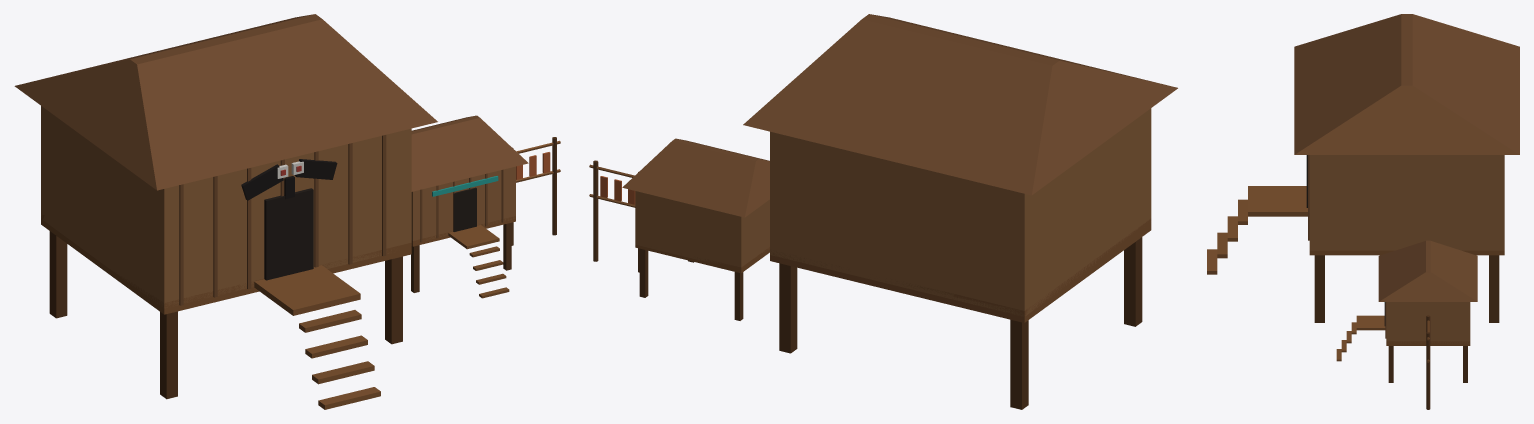
File: bird_hall_broken.glb
The picture shows the model from 3 angles, left to right: view 1: azimuth 30°, elevation 25°; view 2: azimuth 150°, elevation 25°; view 3: azimuth 270°, elevation 25°; orthographic projection. The views are drawn at different scales.
Visible parts, largest first — view 1: bird_hall_piece7, bird_hall_piece10, bird_hall_piece11, bird_hall_piece3, bird_hall_piece2, bird_hall_piece9, bird_hall_piece12, bird_hall_piece4, bird_hall_piece6, bird_hall_piece1, bird_hall_piece5, bird_hall_piece8; view 2: bird_hall_piece5, bird_hall_piece3, bird_hall_piece13, bird_hall_piece7, bird_hall_piece2, bird_hall_piece9, bird_hall_piece12, bird_hall_piece4; view 3: bird_hall_piece13, bird_hall_piece12, bird_hall_piece6, bird_hall_piece9, bird_hall_piece5, bird_hall_piece3, bird_hall_piece11, bird_hall_piece10, bird_hall_piece1, bird_hall_piece2, bird_hall_piece0, bird_hall_piece7.
Boxes of the visible parts, x1=… form: bird_hall_piece7: x1=65, y1=161, x2=277, y2=399; bird_hall_piece10: x1=198, y1=98, x2=411, y2=216; bird_hall_piece11: x1=277, y1=185, x2=411, y2=409; bird_hall_piece3: x1=14, y1=44, x2=323, y2=221; bird_hall_piece2: x1=41, y1=89, x2=220, y2=261; bird_hall_piece9: x1=411, y1=116, x2=560, y2=270; bird_hall_piece12: x1=247, y1=14, x2=390, y2=98; bird_hall_piece4: x1=49, y1=176, x2=291, y2=317; bird_hall_piece6: x1=298, y1=80, x2=444, y2=231; bird_hall_piece1: x1=375, y1=115, x2=509, y2=298; bird_hall_piece5: x1=60, y1=21, x2=281, y2=74; bird_hall_piece8: x1=49, y1=241, x2=286, y2=318; bird_hall_piece5: x1=778, y1=28, x2=997, y2=304; bird_hall_piece3: x1=951, y1=34, x2=1089, y2=322; bird_hall_piece13: x1=622, y1=89, x2=855, y2=322; bird_hall_piece7: x1=1049, y1=70, x2=1177, y2=326; bird_hall_piece2: x1=1010, y1=55, x2=1150, y2=358; bird_hall_piece9: x1=589, y1=138, x2=797, y2=353; bird_hall_piece12: x1=781, y1=14, x2=969, y2=106; bird_hall_piece4: x1=1010, y1=341, x2=1028, y2=403; bird_hall_piece13: x1=1411, y1=131, x2=1519, y2=319; bird_hall_piece12: x1=1336, y1=61, x2=1497, y2=166; bird_hall_piece6: x1=1294, y1=92, x2=1448, y2=269; bird_hall_piece9: x1=1355, y1=241, x2=1499, y2=409; bird_hall_piece5: x1=1381, y1=38, x2=1519, y2=141; bird_hall_piece3: x1=1335, y1=14, x2=1519, y2=100; bird_hall_piece11: x1=1207, y1=155, x2=1343, y2=322; bird_hall_piece10: x1=1294, y1=56, x2=1356, y2=251; bird_hall_piece1: x1=1294, y1=126, x2=1383, y2=361; bird_hall_piece2: x1=1308, y1=20, x2=1379, y2=59; bird_hall_piece0: x1=1358, y1=144, x2=1411, y2=205; bird_hall_piece7: x1=1273, y1=39, x2=1318, y2=186.
Bounding box in the file's own units: 6.29 × 3.55 × 4.42.
